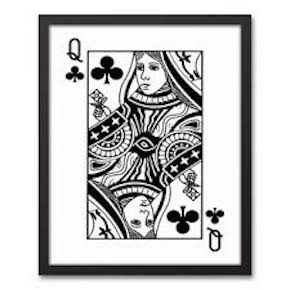QueenOfClubs: (45, 20, 245, 273)
